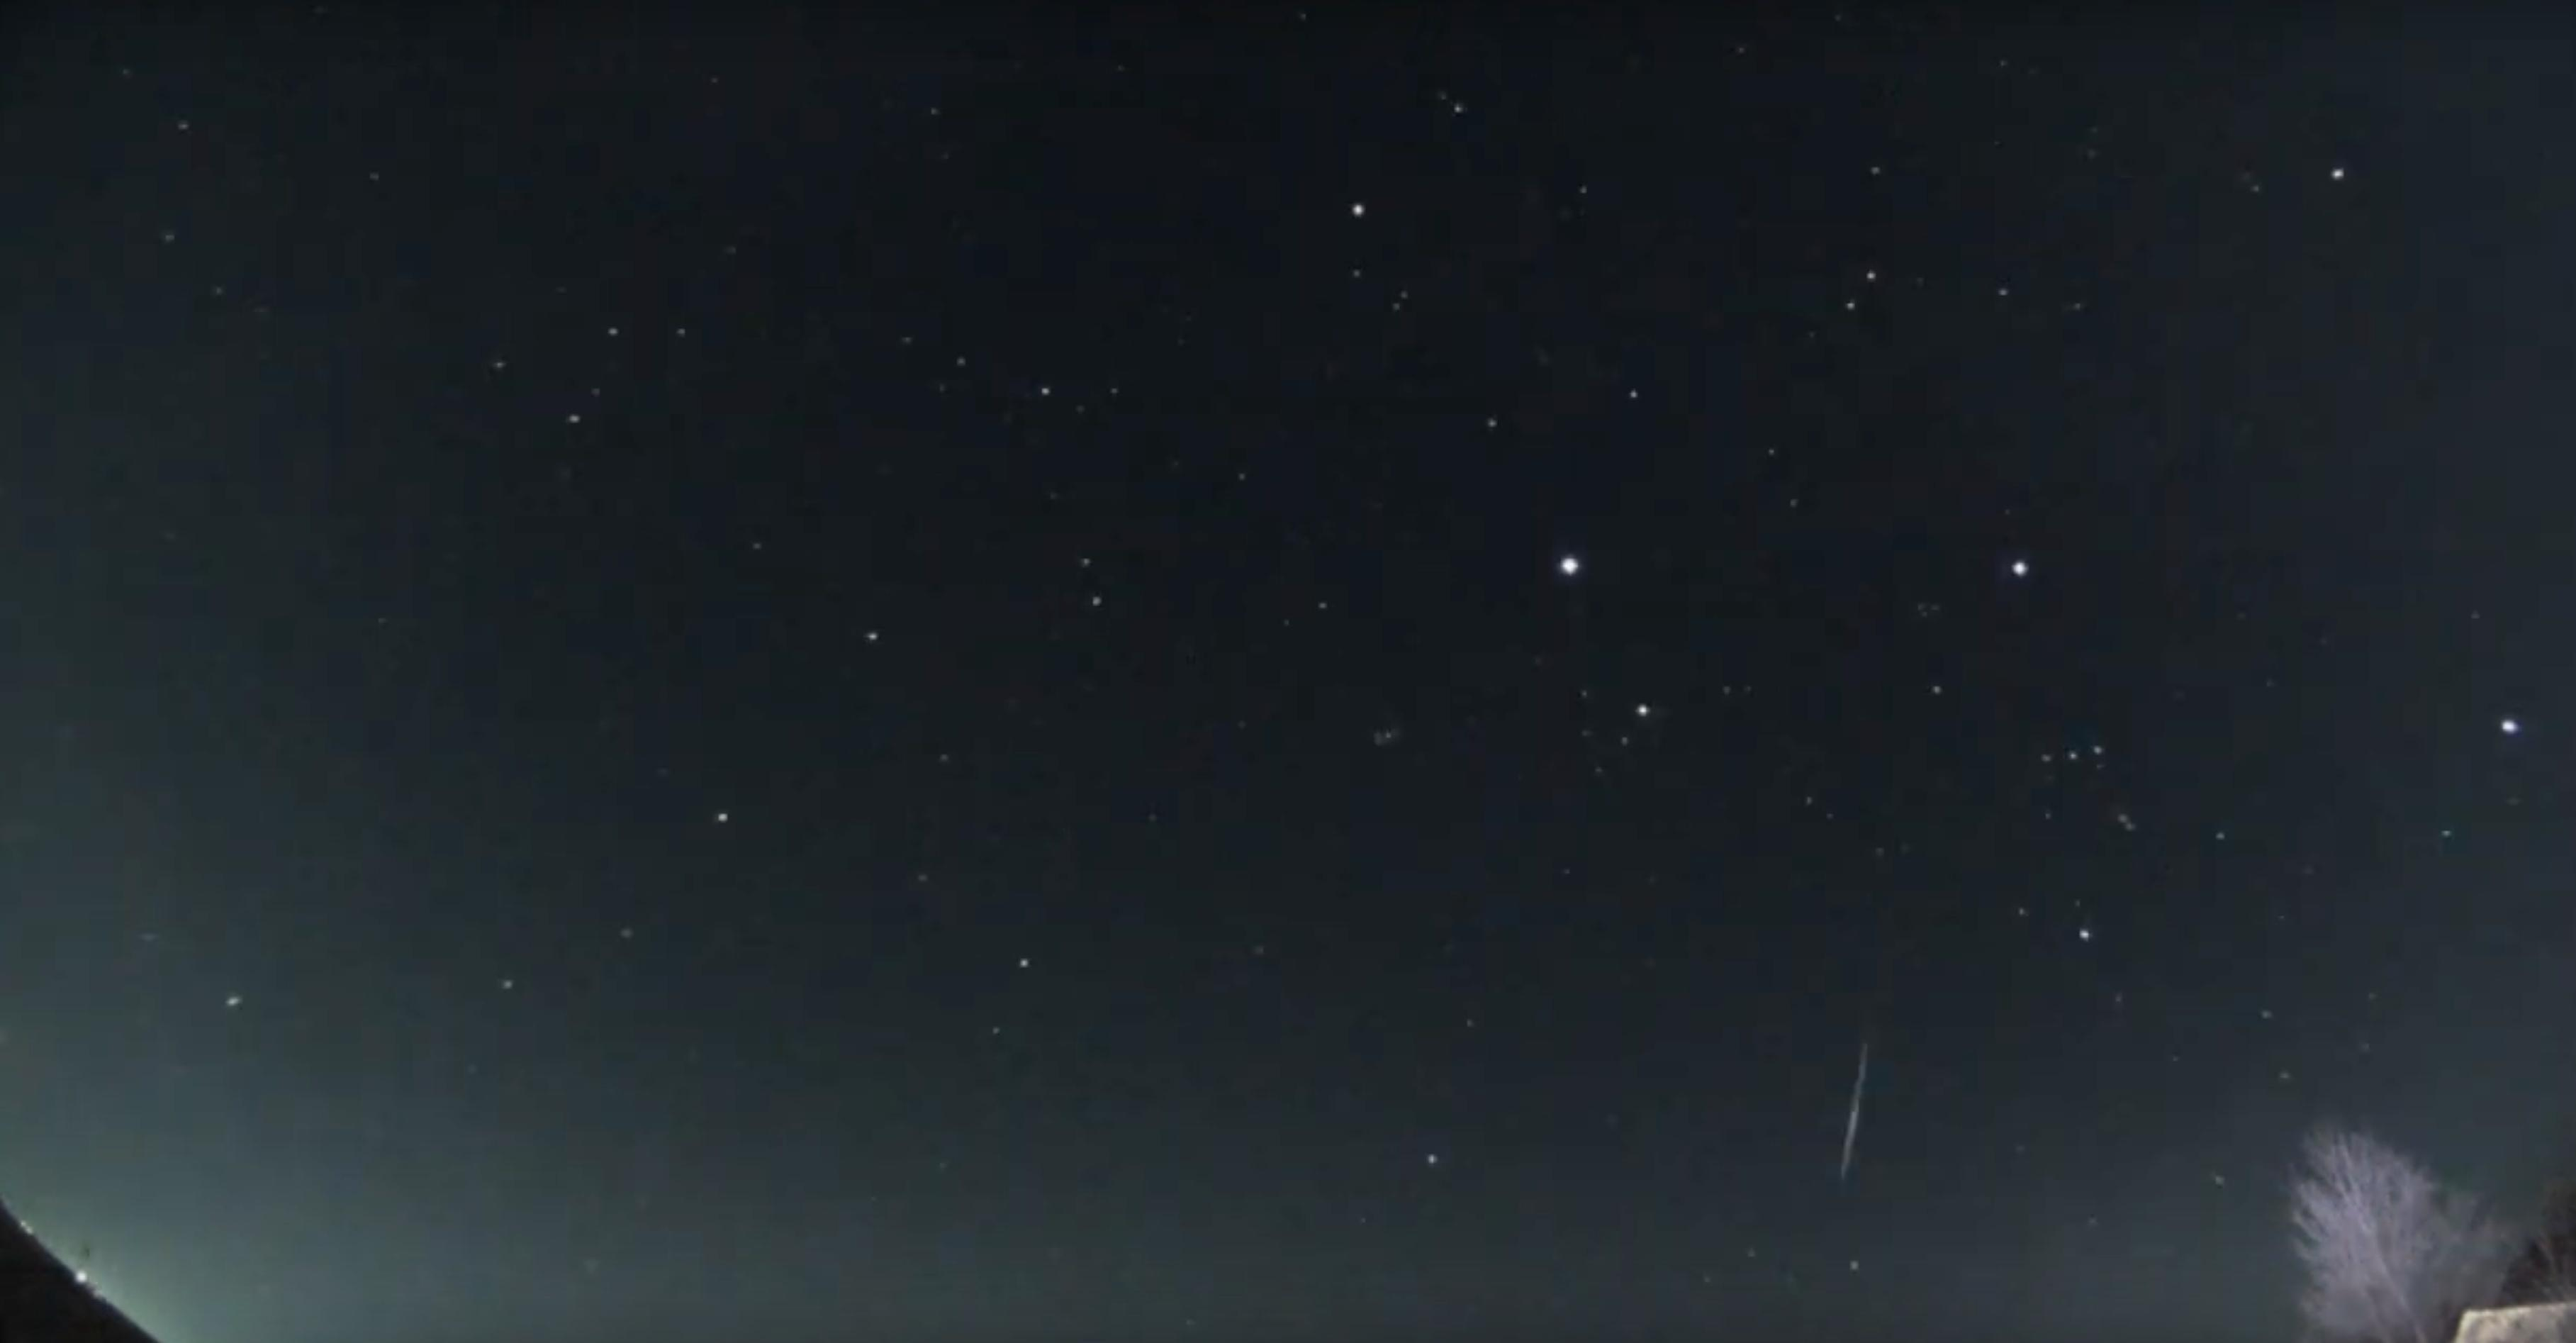meteorite: (1813, 1012, 1900, 1178)
